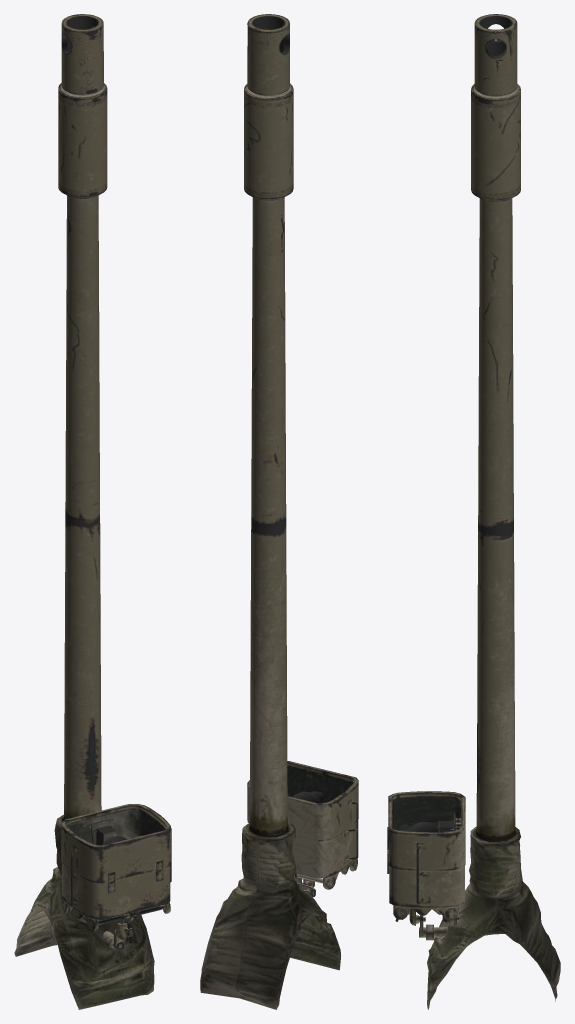
Rendered from Gun_02.glb.
3 views of the same model, side by side, from view 1: azimuth 30°, elevation 25°; view 2: azimuth 150°, elevation 25°; view 3: azimuth 270°, elevation 25° (orthographic).
Visible parts, largest first — view 1: set_0_group_0; view 2: set_0_group_0; view 3: set_0_group_0.
Part boxes in pixels (x1,y1,x2,y2): set_0_group_0: [14, 14, 171, 1009]; set_0_group_0: [200, 14, 358, 1009]; set_0_group_0: [387, 14, 560, 1009].
Bounding box in the file's own units: 0.6691 × 6.06 × 0.9825.
Materials: 1 (1 with a texture image).
